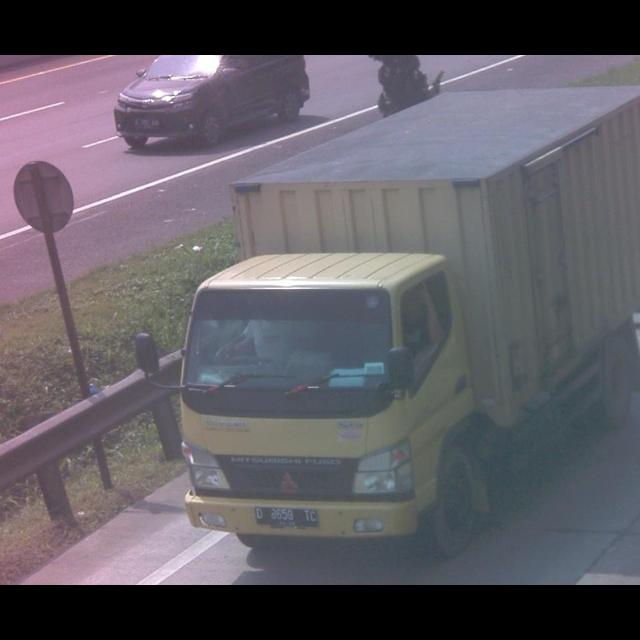plate: (252, 508, 322, 530)
